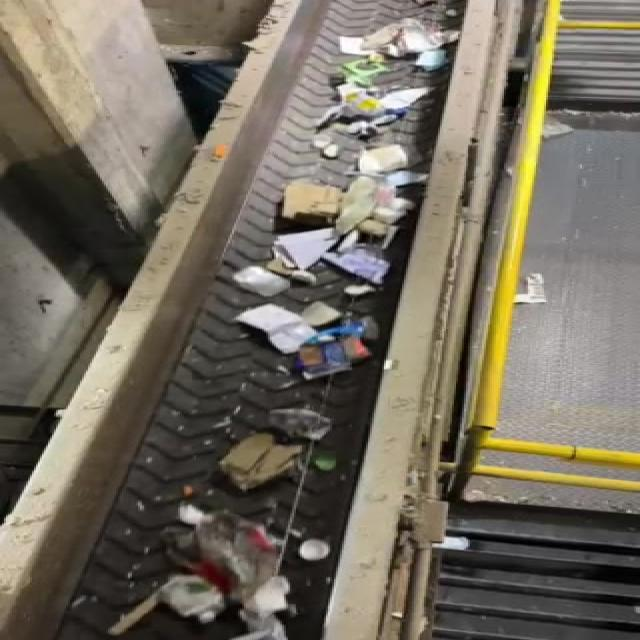metal: (274, 529, 336, 571)
paper: (218, 434, 311, 496)
ps: (144, 575, 299, 623)
